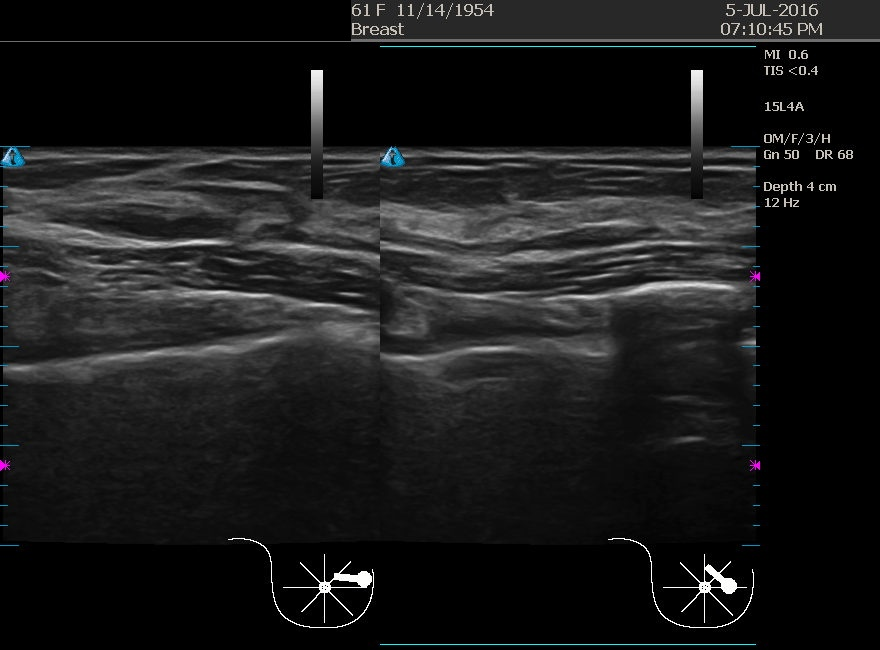BIRADS_3: (67, 152, 267, 352), (475, 150, 675, 350)
